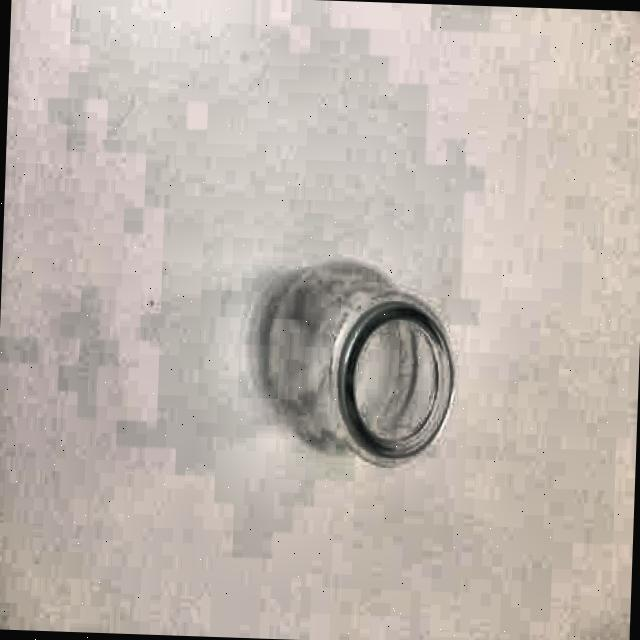glass: (252, 262, 460, 470)
